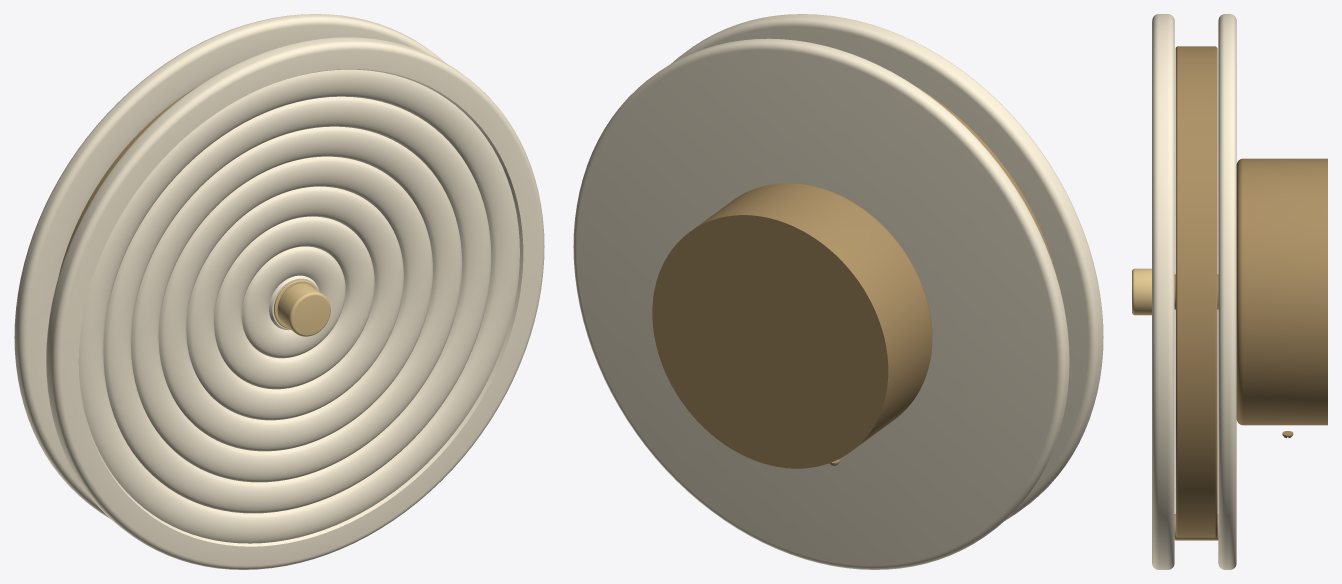
3 views of the same model, side by side, from view 1: azimuth 30°, elevation 25°; view 2: azimuth 150°, elevation 25°; view 3: azimuth 270°, elevation 25° (orthographic). The views are drawn at different scales.
Parts seen in each view (by area): view 1: glass, brass_polish; view 2: glass, brass_satin; view 3: brass_satin, glass, brass_polish.
Boxes of the visible parts, x1,y1,x2,y2 form: glass: [14, 14, 544, 569]; brass_polish: [273, 280, 330, 336]; glass: [573, 14, 1103, 569]; brass_satin: [652, 88, 1056, 468]; brass_satin: [1174, 46, 1327, 537]; glass: [1152, 14, 1236, 569]; brass_polish: [1132, 268, 1218, 540].
Bounding box in the file's own units: 0.25 × 0.25 × 0.088.
